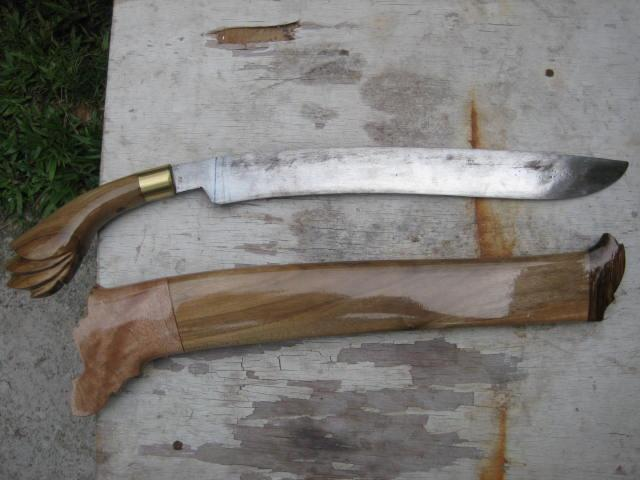facao: (9, 147, 627, 296)
